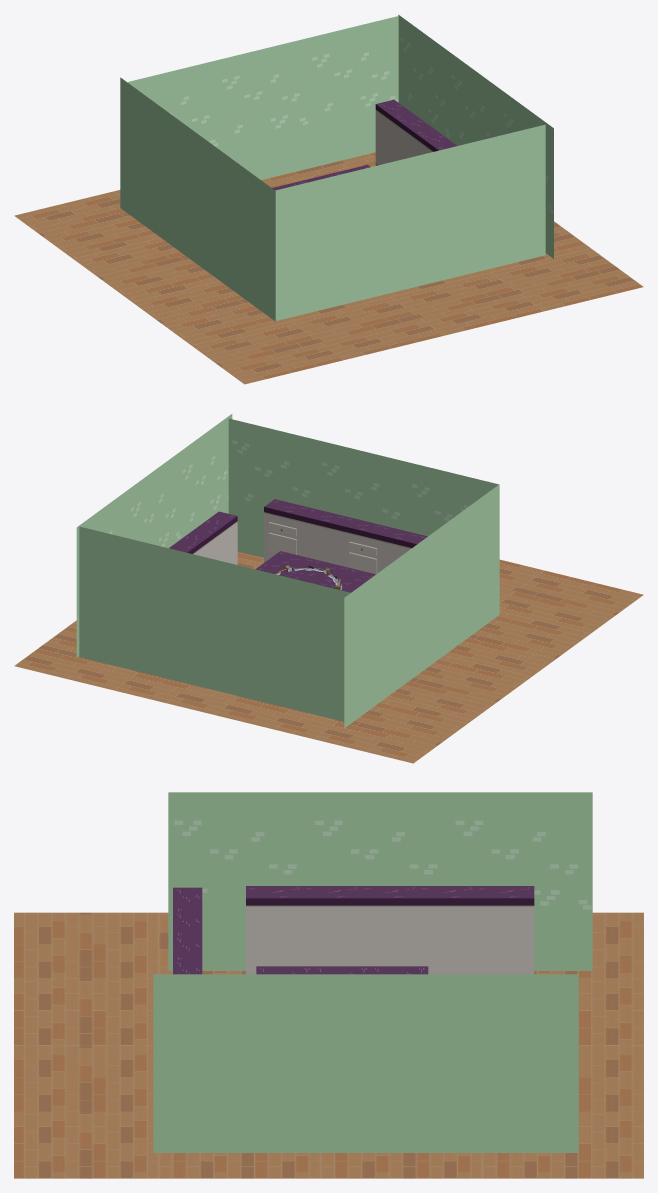
The picture shows the model from 3 angles, top to bottom: view 1: azimuth 30°, elevation 25°; view 2: azimuth 150°, elevation 25°; view 3: azimuth 270°, elevation 25°; orthographic projection. The views are drawn at different scales.
Visible parts, largest first — view 1: pPlane1, mesh_kitchen_wall_13, mesh_kitchen_wall_11, mesh_kitchen_wall_12, mesh_kitchen_wall_06, mesh_kitchen_wall_07, mesh_kitchen_wall_02, mesh_kitchen_wall_04, mesh_kitchen_wall_03, mesh_kitchen_wall_08, mesh_kitchen_wall_05, mesh_kitchen_wall_09 (+4 smaller); view 2: pPlane1, mesh_kitchen_wall_07, mesh_kitchen_wall_06, mesh_kitchen_wall_05, mesh_kitchen_wall_13, mesh_kitchen_wall_04, mesh_kitchen_wall_03, mesh_kitchen_wall_02, mesh_kitchen_wall_12, mesh_kitchen_wall_10, mesh_kitchen_wall_11, mesh_kitchen_wall_09 (+11 smaller); view 3: pPlane1, mesh_kitchen_wall_08, mesh_kitchen_wall_09, mesh_kitchen_wall_10, mesh_kitchen_wall_04, mesh_kitchen_wall_02, mesh_kitchen_wall_03, mesh_kitchen_counterPurple_18, mesh_kitchen_counterPurple_17, mesh_kitchen_counterPurple_14, mesh_kitchen_counterPurple_16, mesh_kitchen_counterPurple_15 (+3 smaller).
Boxes of the visible parts, x1=… form: pPlane1: x1=14, y1=152, x2=643, y2=384; mesh_kitchen_wall_13: x1=455, y1=124, x2=545, y2=277; mesh_kitchen_wall_11: x1=275, y1=168, x2=365, y2=320; mesh_kitchen_wall_12: x1=365, y1=146, x2=455, y2=298; mesh_kitchen_wall_06: x1=218, y1=38, x2=308, y2=179; mesh_kitchen_wall_07: x1=308, y1=16, x2=398, y2=168; mesh_kitchen_wall_02: x1=223, y1=153, x2=275, y2=321; mesh_kitchen_wall_04: x1=120, y1=77, x2=172, y2=245; mesh_kitchen_wall_03: x1=172, y1=116, x2=223, y2=282; mesh_kitchen_wall_08: x1=398, y1=14, x2=449, y2=139; mesh_kitchen_wall_05: x1=128, y1=60, x2=218, y2=148; mesh_kitchen_wall_09: x1=450, y1=52, x2=501, y2=145; pPlane1: x1=14, y1=551, x2=643, y2=763; mesh_kitchen_wall_07: x1=79, y1=526, x2=169, y2=678; mesh_kitchen_wall_06: x1=169, y1=548, x2=259, y2=700; mesh_kitchen_wall_05: x1=259, y1=570, x2=349, y2=721; mesh_kitchen_wall_13: x1=228, y1=418, x2=319, y2=557; mesh_kitchen_wall_04: x1=344, y1=559, x2=396, y2=728; mesh_kitchen_wall_03: x1=396, y1=522, x2=448, y2=689; mesh_kitchen_wall_02: x1=447, y1=484, x2=499, y2=651; mesh_kitchen_wall_12: x1=318, y1=440, x2=408, y2=531; mesh_kitchen_wall_10: x1=180, y1=414, x2=232, y2=539; mesh_kitchen_wall_11: x1=408, y1=462, x2=498, y2=536; mesh_kitchen_wall_09: x1=129, y1=452, x2=180, y2=548; pPlane1: x1=14, y1=912, x2=643, y2=1178; mesh_kitchen_wall_08: x1=435, y1=974, x2=578, y2=1152; mesh_kitchen_wall_09: x1=294, y1=974, x2=437, y2=1152; mesh_kitchen_wall_10: x1=153, y1=974, x2=296, y2=1152; mesh_kitchen_wall_04: x1=449, y1=792, x2=592, y2=970; mesh_kitchen_wall_02: x1=168, y1=792, x2=311, y2=970; mesh_kitchen_wall_03: x1=309, y1=792, x2=451, y2=885; mesh_kitchen_counterPurple_18: x1=476, y1=886, x2=534, y2=974; mesh_kitchen_counterPurple_17: x1=418, y1=886, x2=476, y2=974; mesh_kitchen_counterPurple_14: x1=246, y1=886, x2=304, y2=974; mesh_kitchen_counterPurple_16: x1=361, y1=886, x2=419, y2=966; mesh_kitchen_counterPurple_15: x1=303, y1=886, x2=361, y2=966.
Size of the model in its own units: 17.62 by 5.51 by 17.62.
8 materials, 8 textured.
